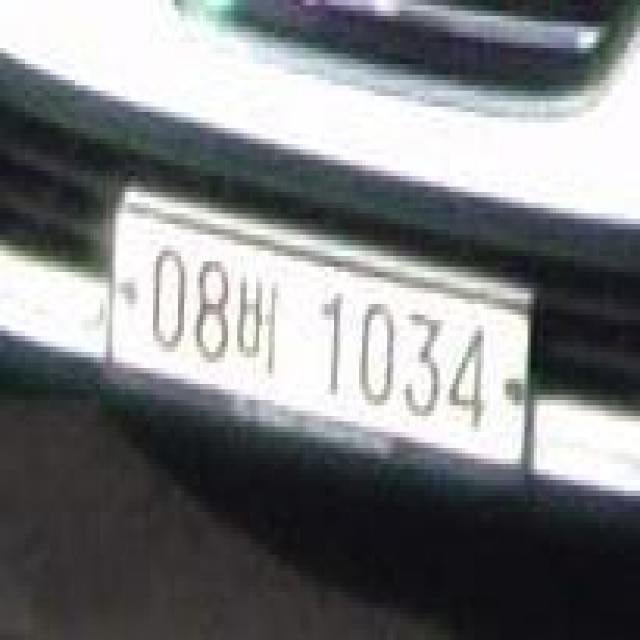illegal_plate: (107, 188, 540, 504)
